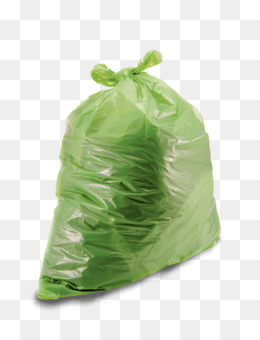plastic_bag: (28, 42, 228, 312)
